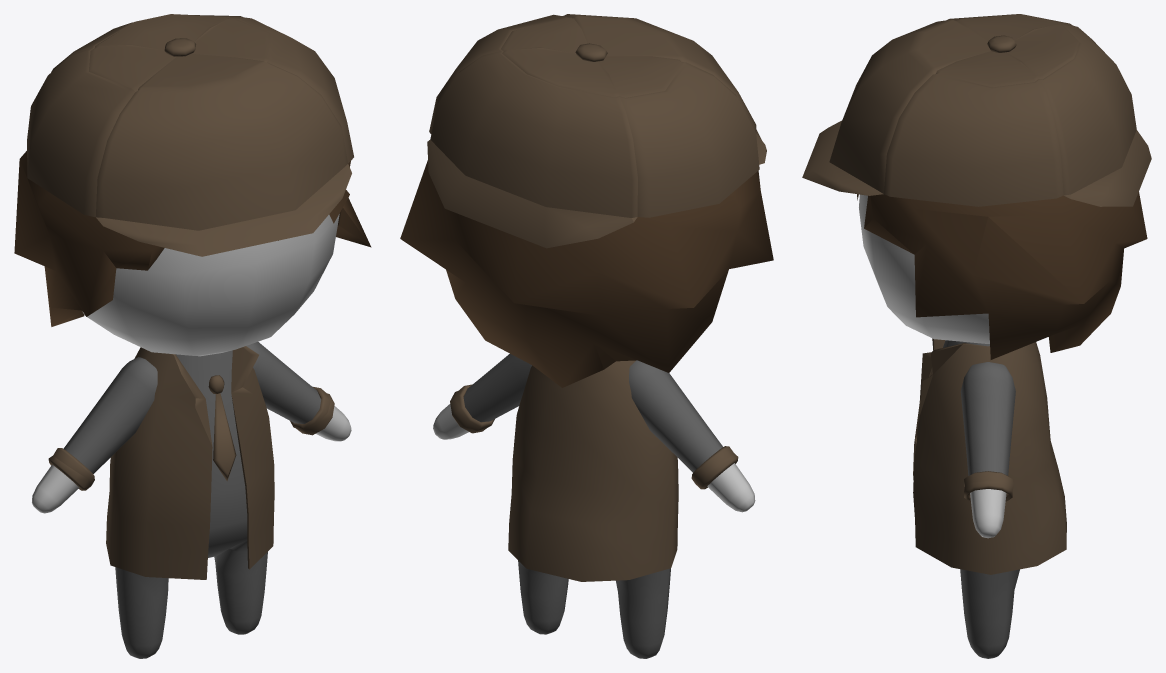
Rendered from LUKE 2.0.fbx.
The picture shows the model from 3 angles, left to right: view 1: azimuth 30°, elevation 25°; view 2: azimuth 150°, elevation 25°; view 3: azimuth 270°, elevation 25°; orthographic projection.
Visible parts, largest first — view 1: Sombrerito, Campera, Cabeza, TorsoPiernas, Pelo, Brazos, Mangas, Corbata; view 2: Sombrerito, Pelo, Campera, Brazos, TorsoPiernas, Mangas; view 3: Sombrerito, Pelo, Campera, Brazos, Cabeza, TorsoPiernas, Mangas.
Boxes of the visible parts, bbox=[...] form: Sombrerito: bbox=[27, 14, 353, 256]; Campera: bbox=[106, 346, 274, 579]; Cabeza: bbox=[82, 214, 339, 356]; TorsoPiernas: bbox=[115, 350, 267, 658]; Pelo: bbox=[14, 151, 371, 326]; Brazos: bbox=[32, 342, 351, 513]; Mangas: bbox=[48, 386, 334, 490]; Corbata: bbox=[208, 375, 236, 481]; Sombrerito: bbox=[427, 14, 766, 248]; Pelo: bbox=[400, 160, 773, 387]; Campera: bbox=[508, 360, 678, 581]; Brazos: bbox=[433, 354, 755, 512]; TorsoPiernas: bbox=[518, 560, 670, 658]; Mangas: bbox=[450, 384, 738, 489]; Sombrerito: bbox=[802, 14, 1151, 206]; Pelo: bbox=[857, 192, 1147, 359]; Campera: bbox=[913, 338, 1066, 574]; Brazos: bbox=[960, 362, 1015, 538]; Cabeza: bbox=[859, 194, 989, 343]; TorsoPiernas: bbox=[943, 340, 1019, 658]; Mangas: bbox=[964, 471, 1013, 501].
Bounding box in the file's own units: 82.05 × 148 × 79.42.
